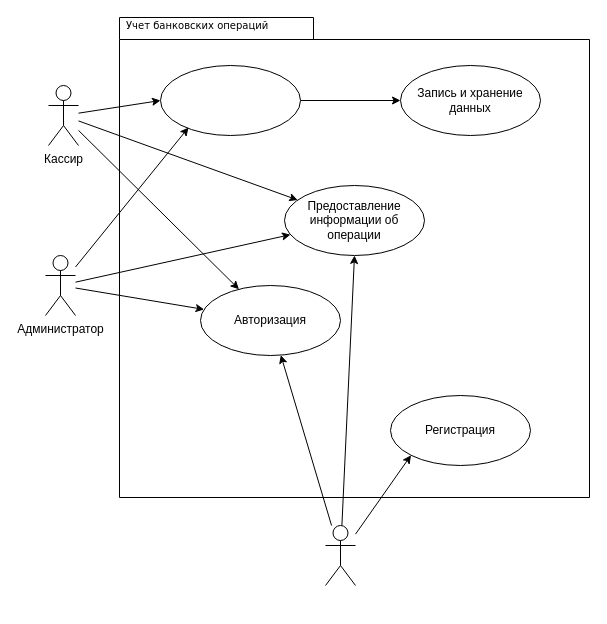
Some shapes in this 607 by 624 pixel diagram are drawn without their labels. The shapes that lost their labels are listed below. From the top down, each one's centre as x and y in pixels, then its label:
At pixel 230 100: "Создание, изменение и удаление операции".
At pixel 340 555: "Клиент".
